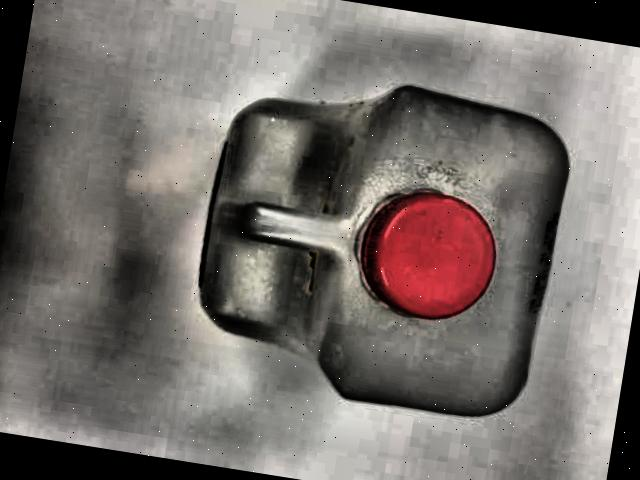Plastic: (147, 50, 592, 459)
